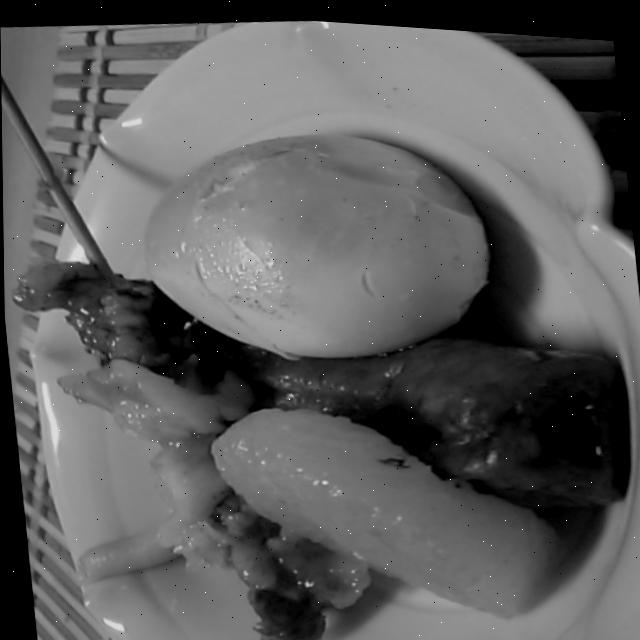汤锅炖物: (1, 50, 636, 640)
